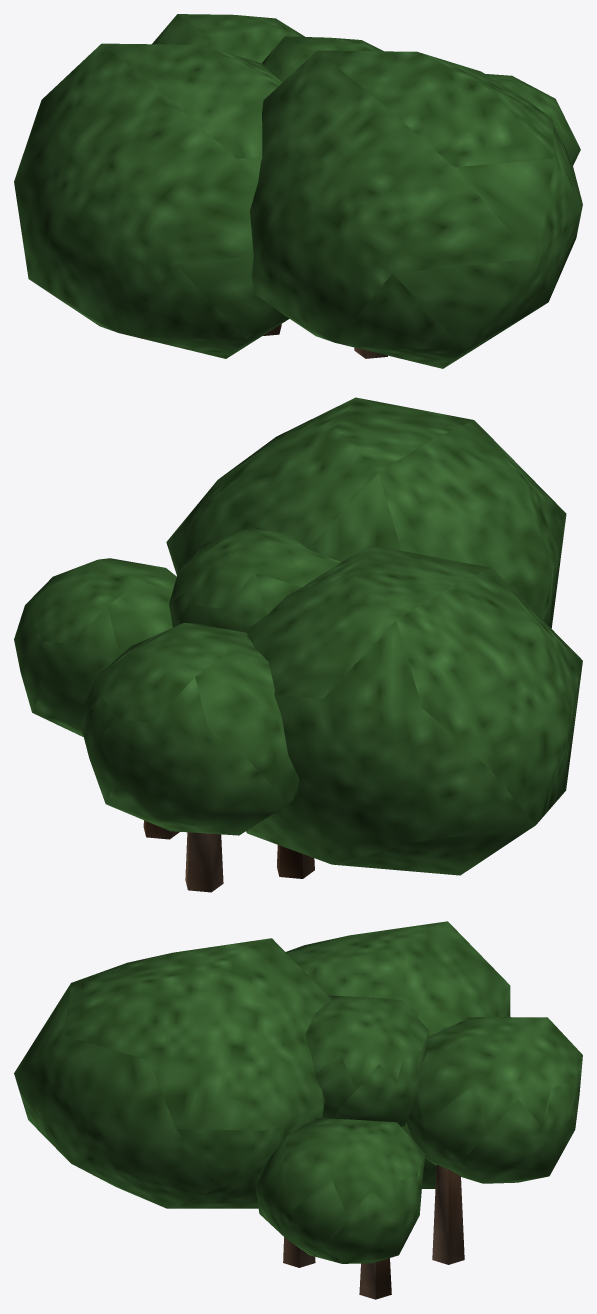
Rendered from shrub_1.glb.
3 views of the same model, one above another, from view 1: azimuth 30°, elevation 25°; view 2: azimuth 150°, elevation 25°; view 3: azimuth 270°, elevation 25° (orthographic). The views are drawn at different scales.
Visible parts, largest first — view 1: shrub_1; view 2: shrub_1; view 3: shrub_1.
Part boxes in pixels (x1,y1,x2,y2): shrub_1: (14, 14, 582, 368); shrub_1: (14, 397, 582, 892); shrub_1: (14, 921, 582, 1299).
Size of the model in its own units: 1.37 by 0.8572 by 1.5.
2 materials, 2 textured.
